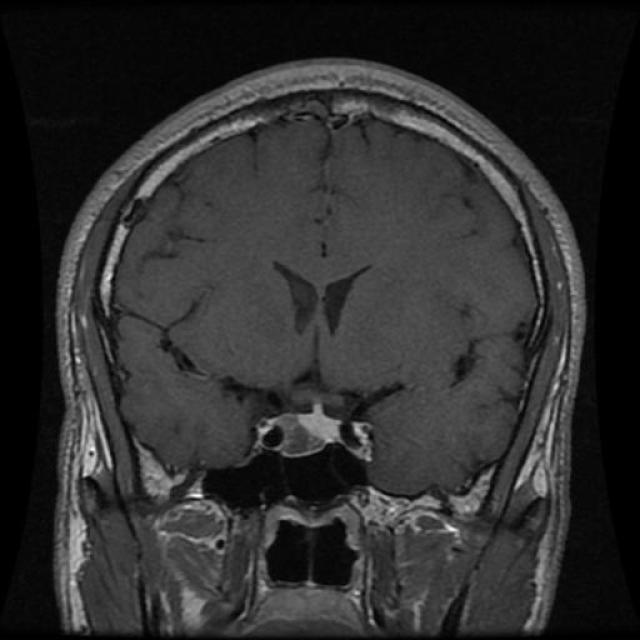pituitary: (246, 376, 382, 476)
